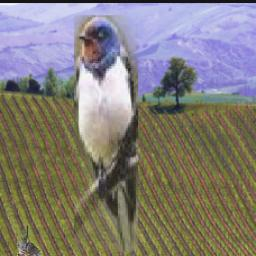Sparrow: (16, 227, 42, 256)
Swallow: (73, 16, 137, 253)
